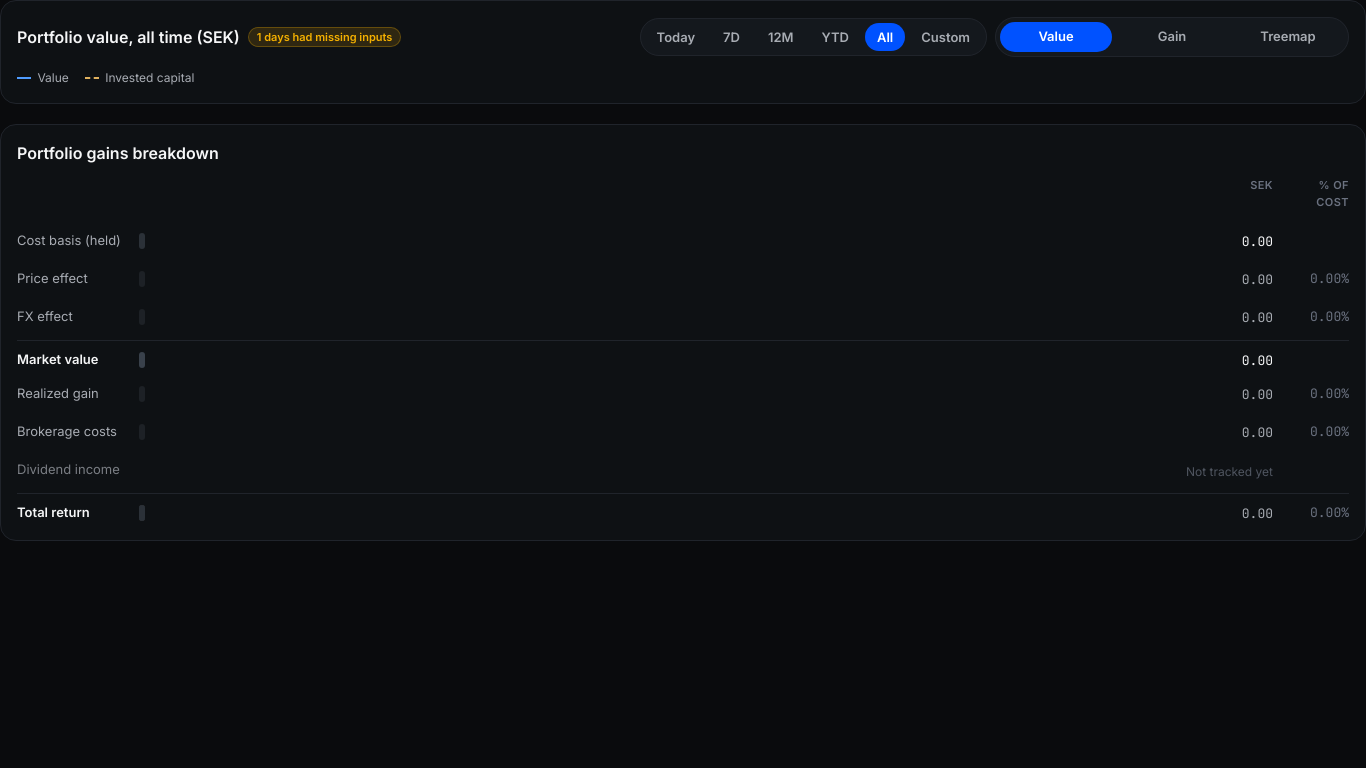
Scenario: Dashboard gain view › marks the percentage approximate only when money moved around a gap
Click the button "Gain" at (1172, 37), box [1116,22,1228,52]
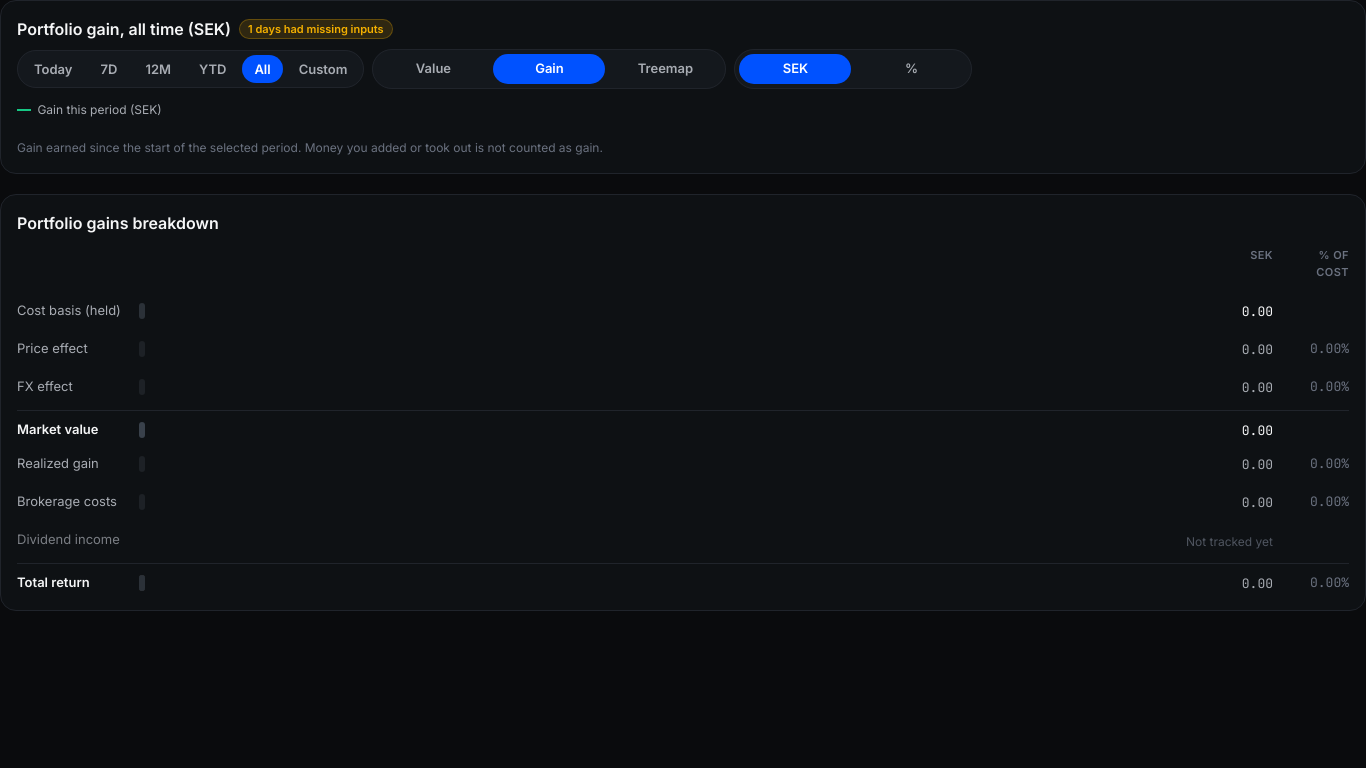
expect the text "Approximate" is not shown: met
Click the button named "Percent" at (911, 69), box [855,54,967,84]
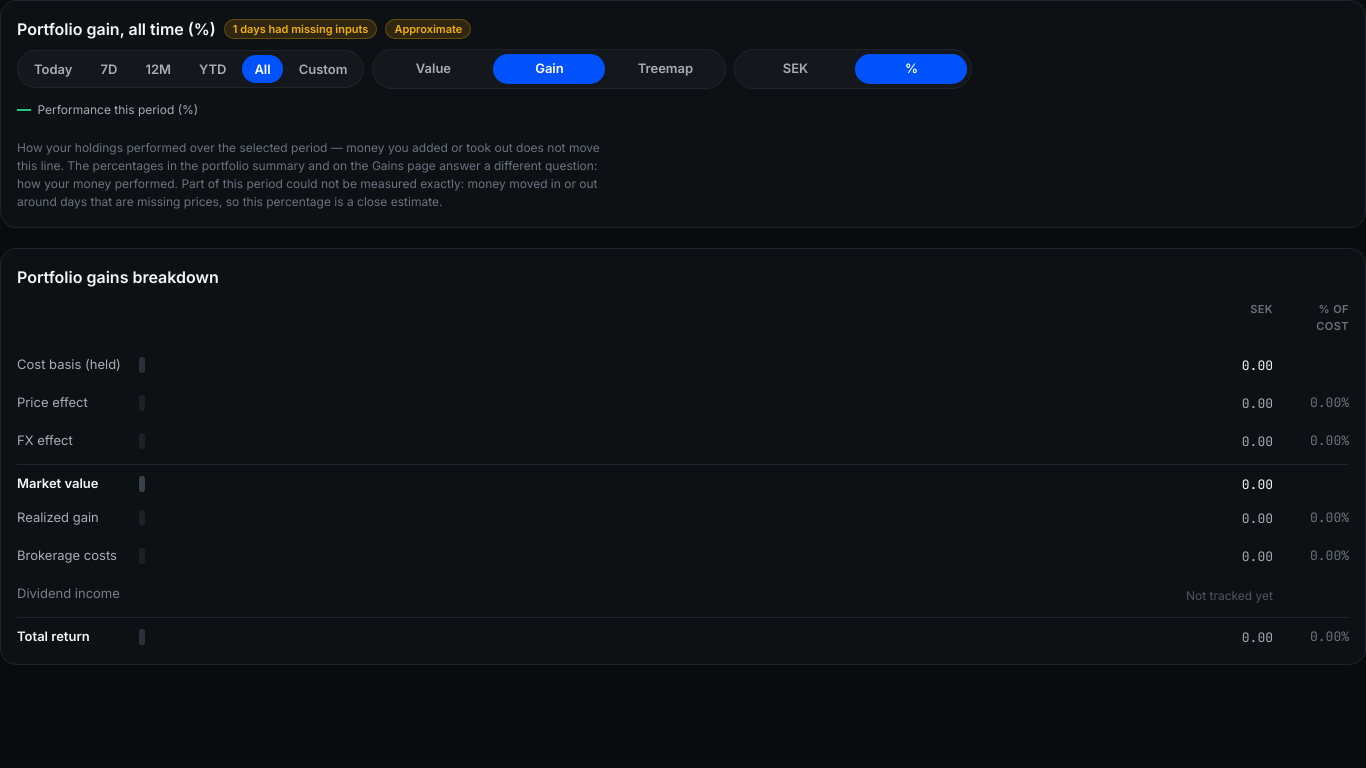
expect the text "Approximate" is shown: met, box [385,19,471,39]
expect the text "close estimate" is shown: met, box [17,176,598,209]
